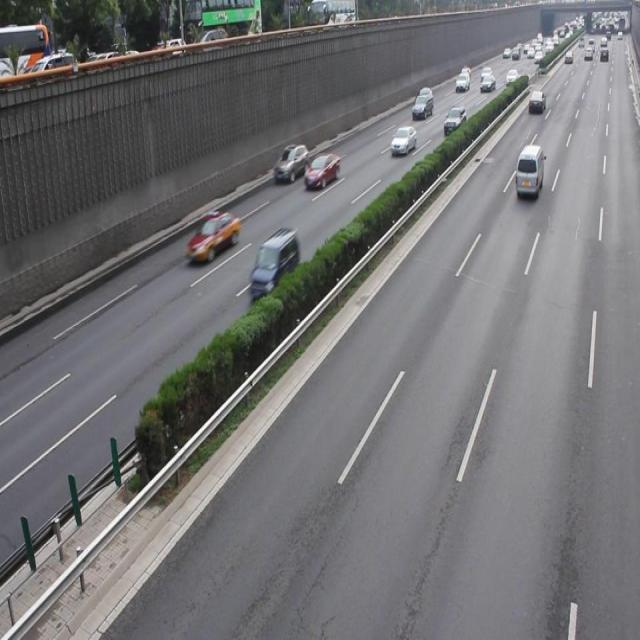car: (186, 208, 240, 266), (304, 150, 339, 188), (274, 144, 308, 183)
truck: (248, 229, 298, 302), (514, 142, 543, 197)
